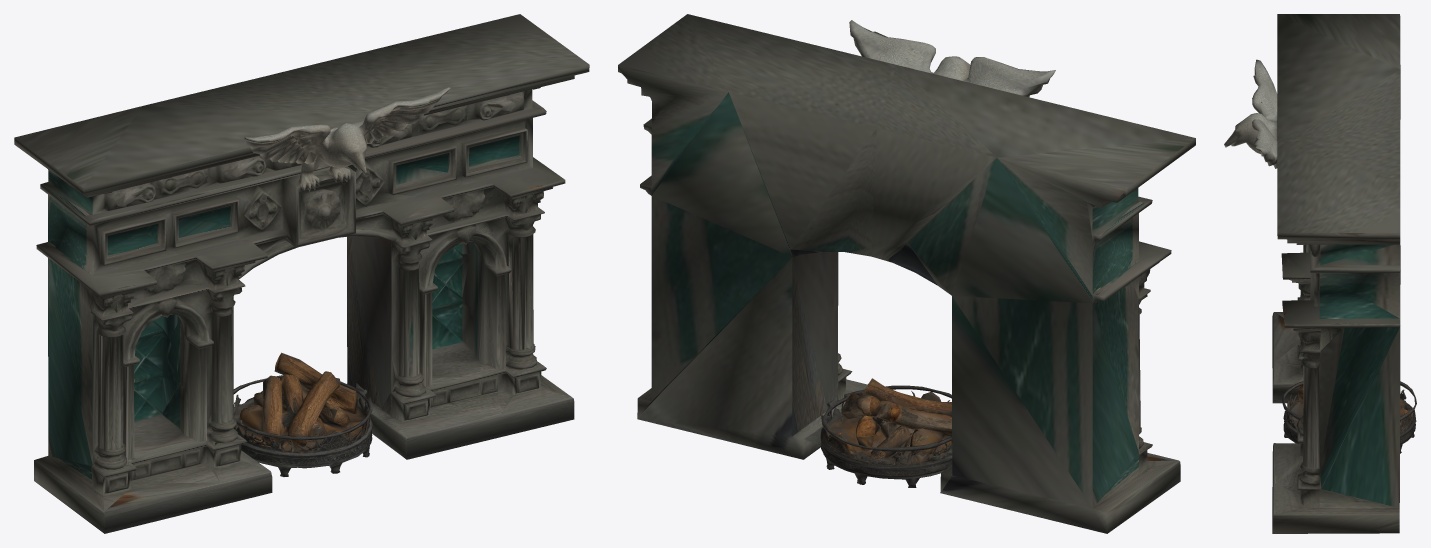
Rendered from hearth_h2.glb.
The picture shows the model from 3 angles, left to right: view 1: azimuth 30°, elevation 25°; view 2: azimuth 150°, elevation 25°; view 3: azimuth 270°, elevation 25°; orthographic projection. The views are drawn at different scales.
Parts seen in each view (by area): view 1: body; view 2: body; view 3: body.
Part boxes in pixels (x1,y1,x2,y2): body: (14,14,589,533); body: (618,14,1195,533); body: (1224,14,1416,533).
Bounding box in the file's own units: 3.26 × 2.3 × 1.21.
1 material, 1 textured.
